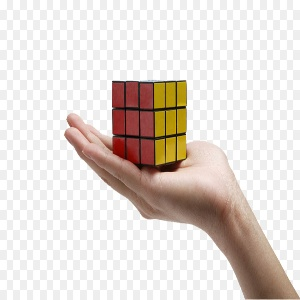cube: (112, 80, 187, 166)
